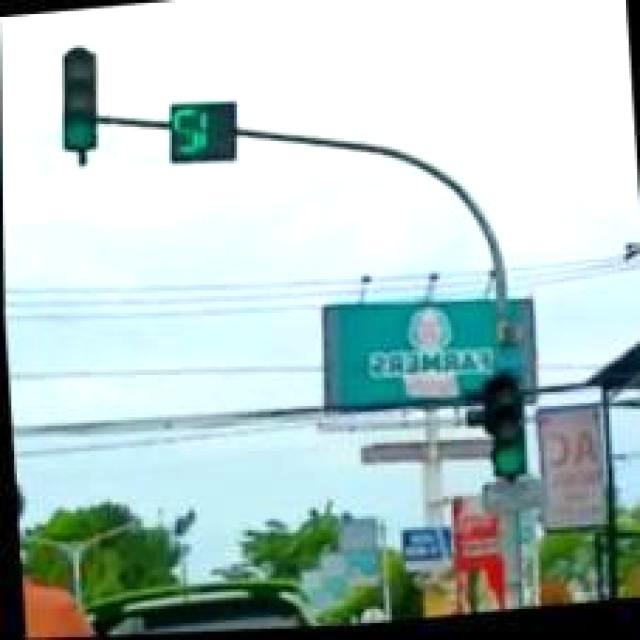Green: (484, 372, 532, 485), (55, 49, 103, 154)
